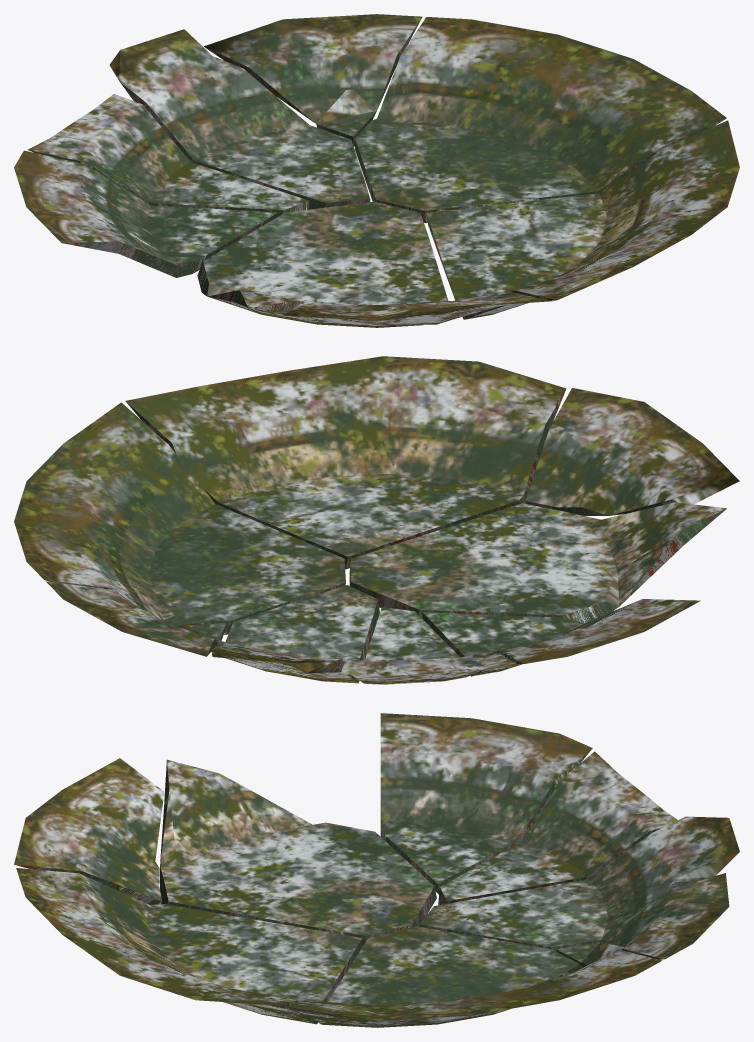
The model's file is SM_Plate_Dmage.fbx.
The picture shows the model from 3 angles, top to bottom: view 1: azimuth 30°, elevation 25°; view 2: azimuth 150°, elevation 25°; view 3: azimuth 270°, elevation 25°; orthographic projection.
Visible parts, largest first — view 1: SM_Plate_DM.002, SM_Plate_DM.006, SM_Plate_DM, SM_Plate_DM.004, SM_Plate_DM.003, SM_Plate_Dmage, SM_Plate_DM.001, SM_Plate_DM.005; view 2: SM_Plate_DM.006, SM_Plate_DM.002, SM_Plate_DM.004, SM_Plate_DM.005, SM_Plate_DM, SM_Plate_Dmage, SM_Plate_DM.001, SM_Plate_DM.003; view 3: SM_Plate_DM.004, SM_Plate_DM.006, SM_Plate_Dmage, SM_Plate_DM.002, SM_Plate_DM, SM_Plate_DM.001, SM_Plate_DM.005, SM_Plate_DM.003.
Boxes of the visible parts, box(x1,y1,x2,y2) form: SM_Plate_DM.002: box(355, 17, 726, 222); SM_Plate_DM.006: box(426, 120, 739, 319); SM_Plate_DM: box(109, 29, 370, 209); SM_Plate_DM.004: box(197, 201, 448, 327); SM_Plate_DM.003: box(204, 14, 422, 146); SM_Plate_Dmage: box(14, 150, 278, 277); SM_Plate_DM.001: box(27, 94, 309, 216); SM_Plate_DM.005: box(283, 291, 552, 324); SM_Plate_DM.006: box(125, 356, 566, 569); SM_Plate_DM.002: box(14, 402, 345, 634); SM_Plate_DM.004: box(349, 502, 726, 623); SM_Plate_DM.005: box(525, 388, 739, 515); SM_Plate_DM: box(212, 585, 379, 683); SM_Plate_Dmage: box(422, 599, 700, 676); SM_Plate_DM.001: box(340, 607, 518, 684); SM_Plate_DM.003: box(46, 581, 226, 656); SM_Plate_DM.004: box(160, 759, 436, 946); SM_Plate_DM.006: box(16, 868, 362, 1024); SM_Plate_Dmage: box(380, 713, 592, 894); SM_Plate_DM.002: box(285, 926, 662, 1027); SM_Plate_DM: box(419, 816, 739, 951); SM_Plate_DM.001: box(438, 751, 677, 905); SM_Plate_DM.005: box(14, 758, 164, 904); SM_Plate_DM.003: box(556, 873, 729, 966).
Size of the model in its own units: 0.2701 by 0.0297 by 0.2693.
